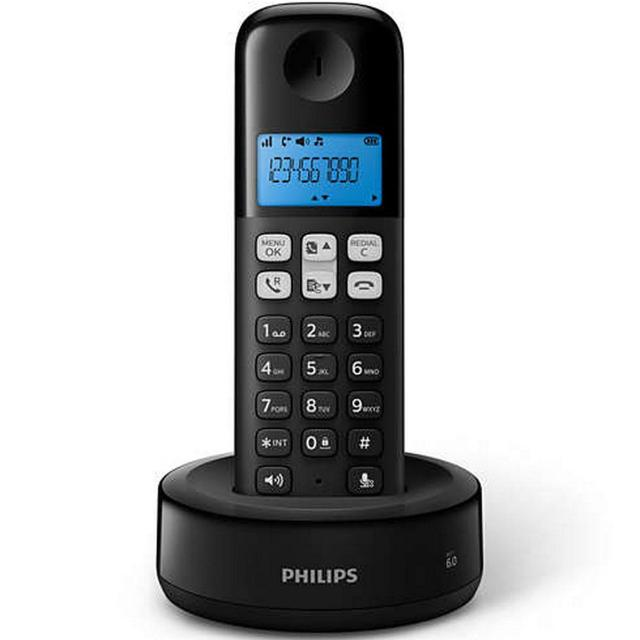Telephone-Set: (159, 0, 551, 640)
